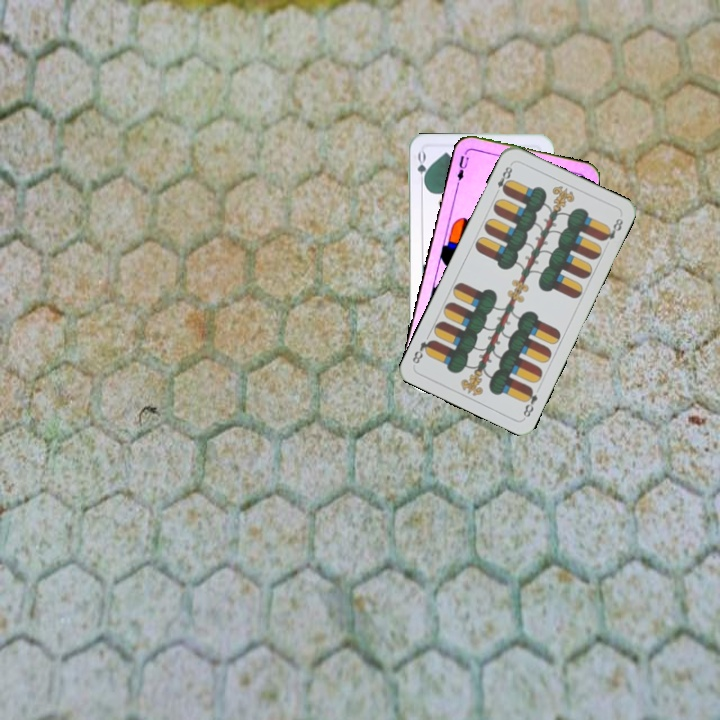E8: (491, 160, 515, 197), (519, 383, 540, 420)
EU: (453, 147, 471, 183)
GO: (413, 148, 429, 189)
